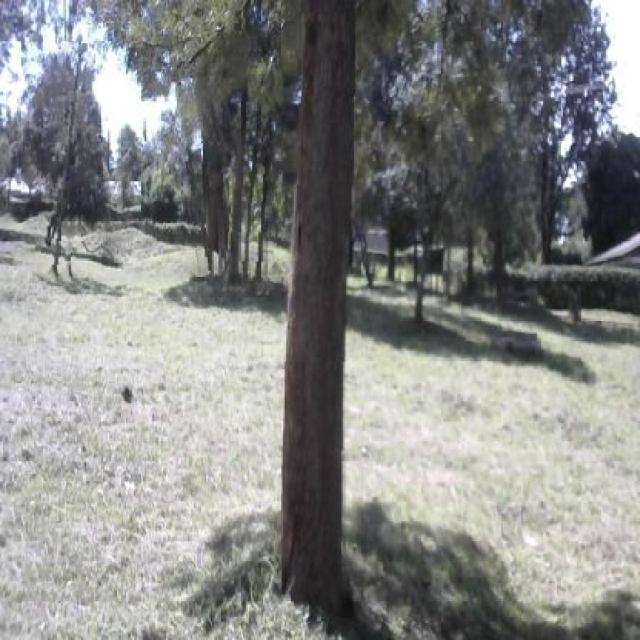tree trunk: (284, 11, 353, 622), (39, 41, 90, 287), (241, 20, 277, 297), (200, 66, 235, 289), (178, 60, 205, 277), (228, 38, 247, 294)
